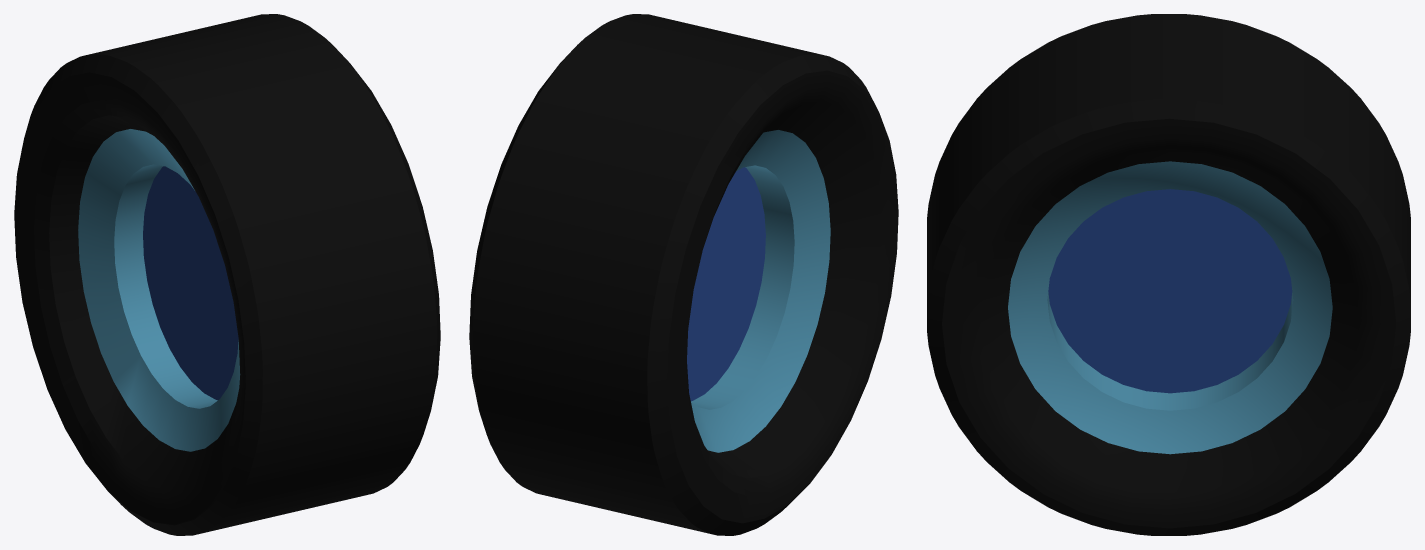
Rendered from roda_TD.fbx.
3 renders of one model, left to right at view 1: azimuth 30°, elevation 25°; view 2: azimuth 150°, elevation 25°; view 3: azimuth 270°, elevation 25°, orthographic.
Visible parts, largest first — view 1: roda_TD; view 2: roda_TD; view 3: roda_TD.
Part boxes in pixels (x1=…): roda_TD: x1=14, y1=14, x2=440, y2=535; roda_TD: x1=469, y1=14, x2=898, y2=535; roda_TD: x1=927, y1=14, x2=1410, y2=535.
Bounding box in the file's own units: 92.6 × 197 × 196.
